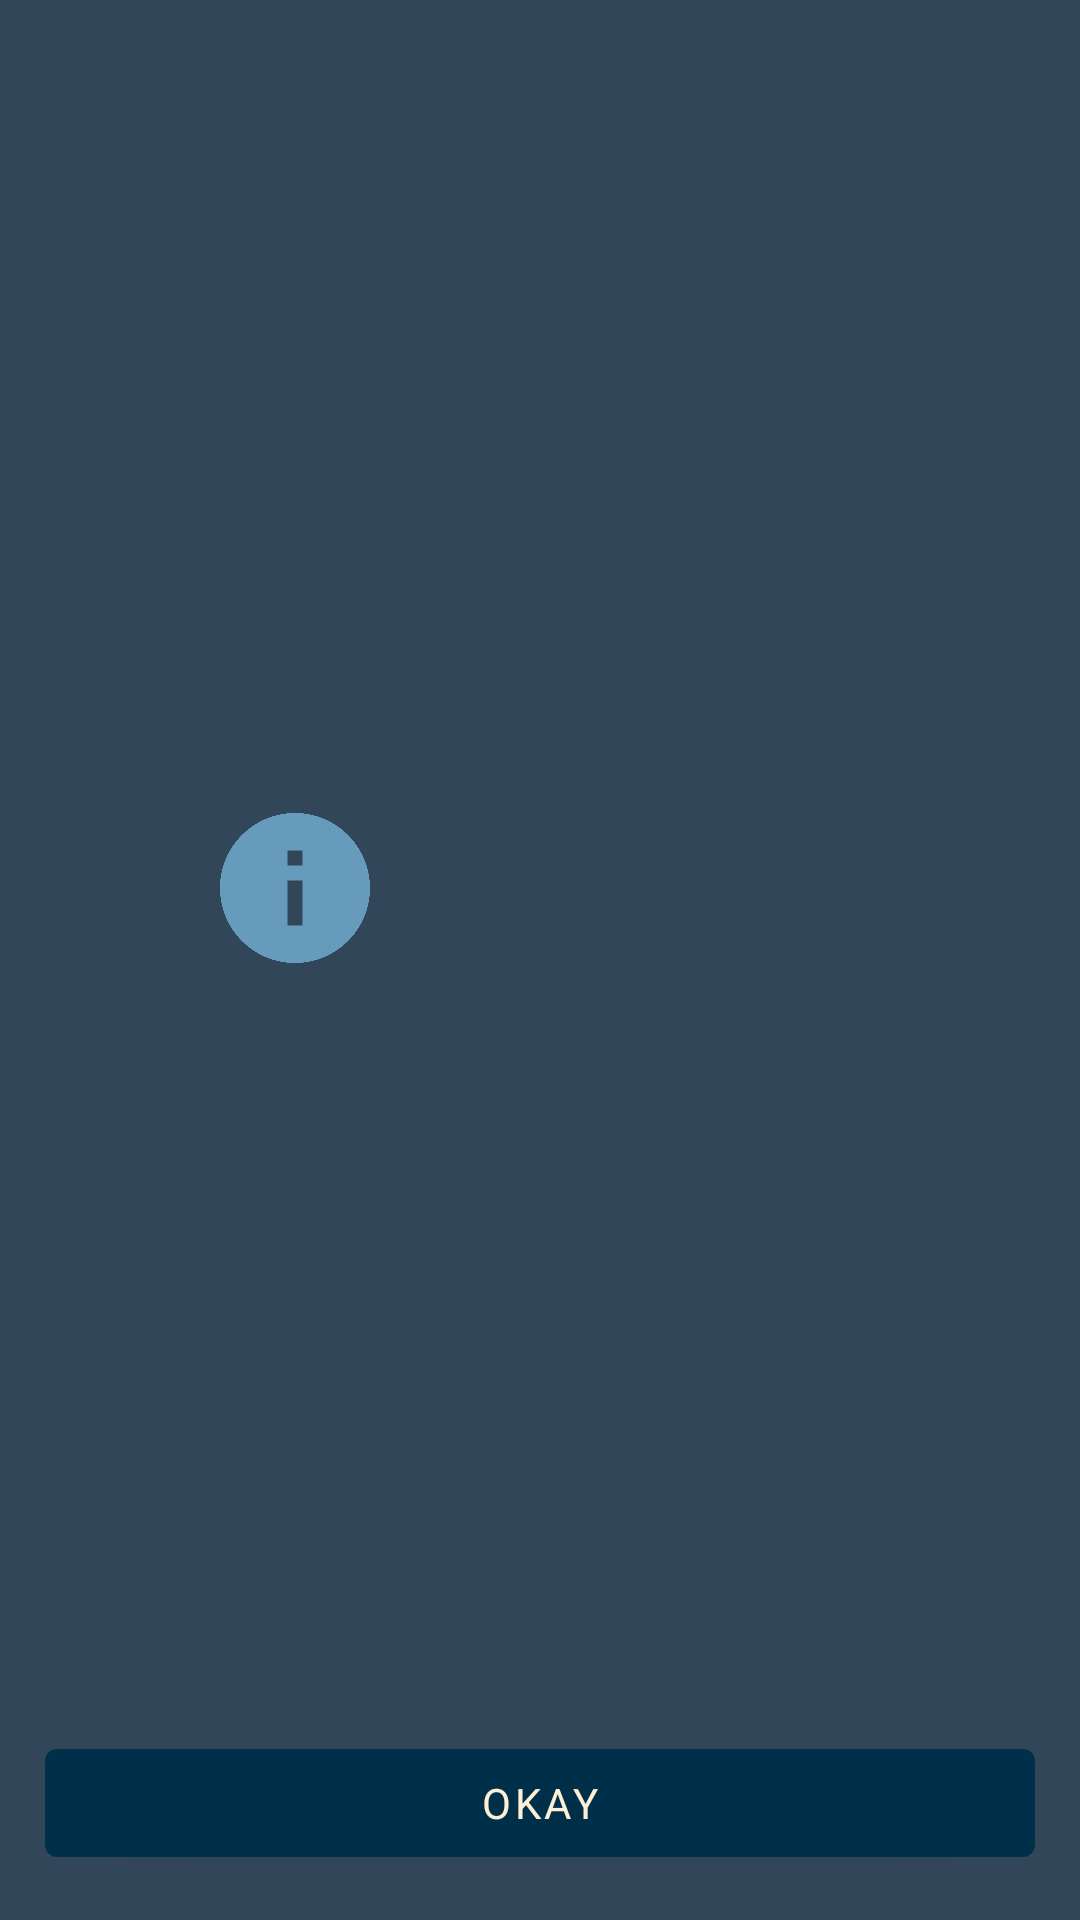

Icons on this 1080*1920 Android screen, each with the point to tap as [x,y]:
info: [295,888]
